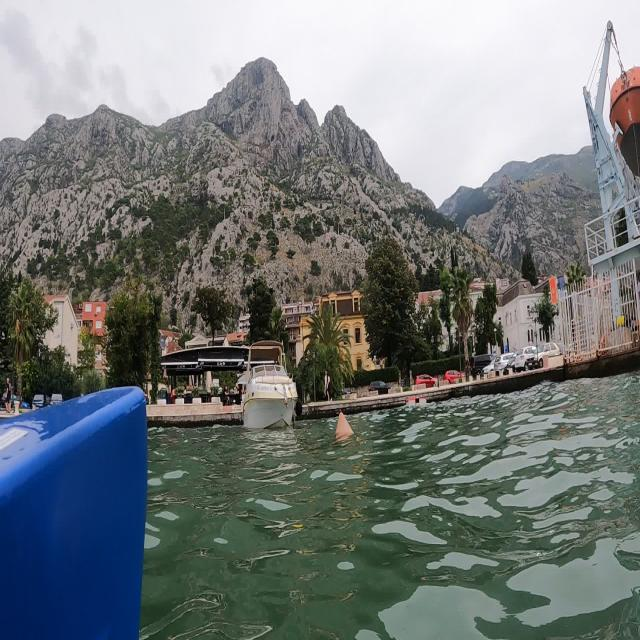boat: (238, 338, 299, 432)
buoy: (328, 403, 360, 444)
